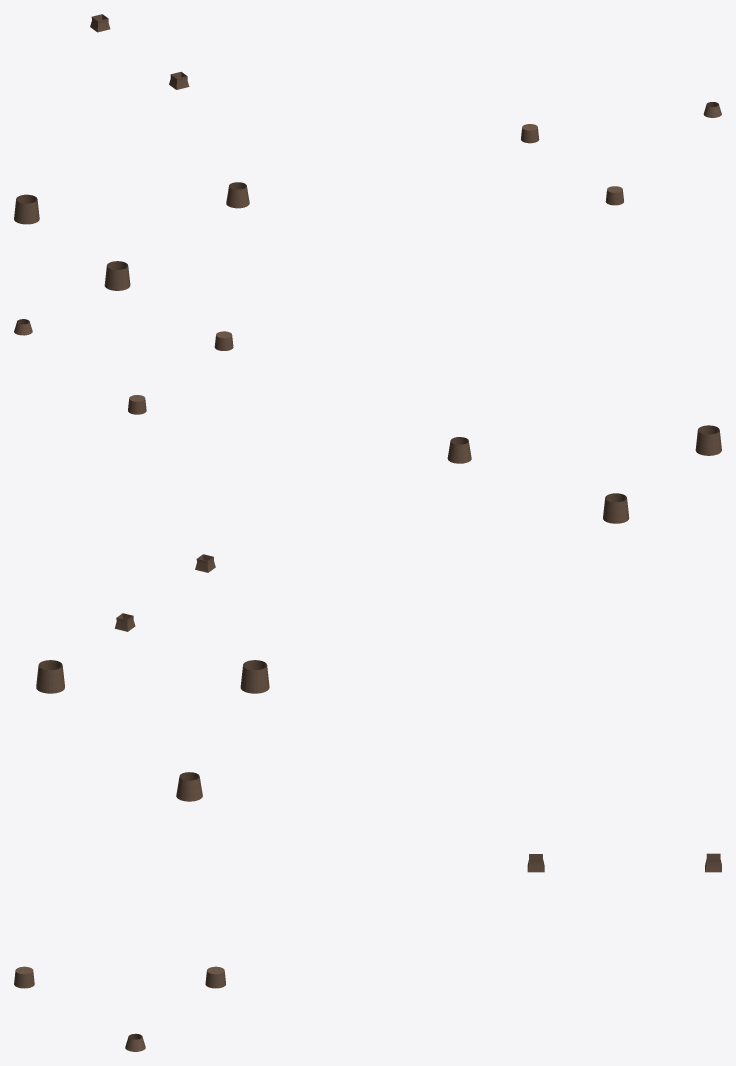
Rendered from dengzhao1.fbx.
3 renders of one model, top to bottom at view 1: azimuth 30°, elevation 25°; view 2: azimuth 150°, elevation 25°; view 3: azimuth 270°, elevation 25°, orthographic. The views are drawn at different scales.
Parts seen in each view (by area): view 1: dengzhao1; view 2: dengzhao1; view 3: dengzhao1.
Boxes of the visible parts, bbox=[...] form: dengzhao1: bbox=[14, 14, 721, 290]; dengzhao1: bbox=[14, 319, 721, 631]; dengzhao1: bbox=[14, 660, 721, 1051].
Bounding box in the file's own units: 1411 × 95.05 × 1177.
Materials: 1 (1 with a texture image).
